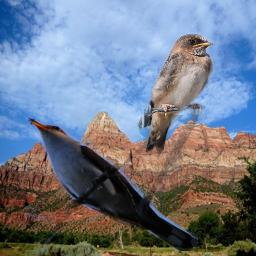Cuckoo: (24, 115, 198, 251)
Swallow: (137, 32, 214, 154)
